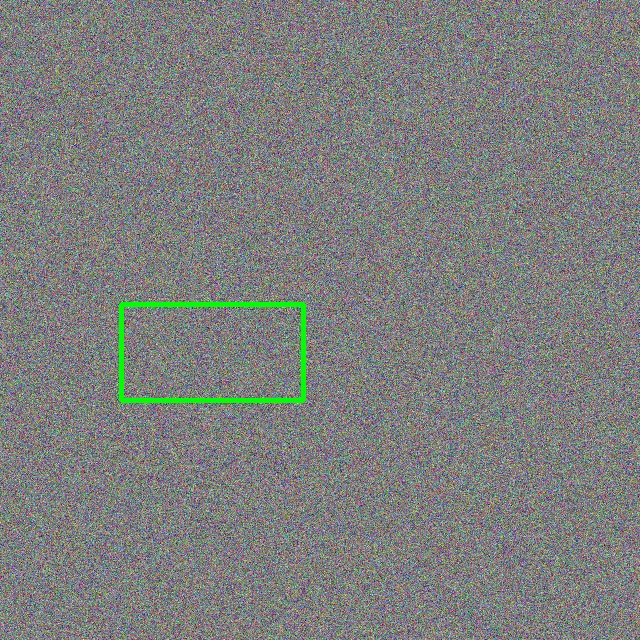base: (121, 304, 303, 400)
